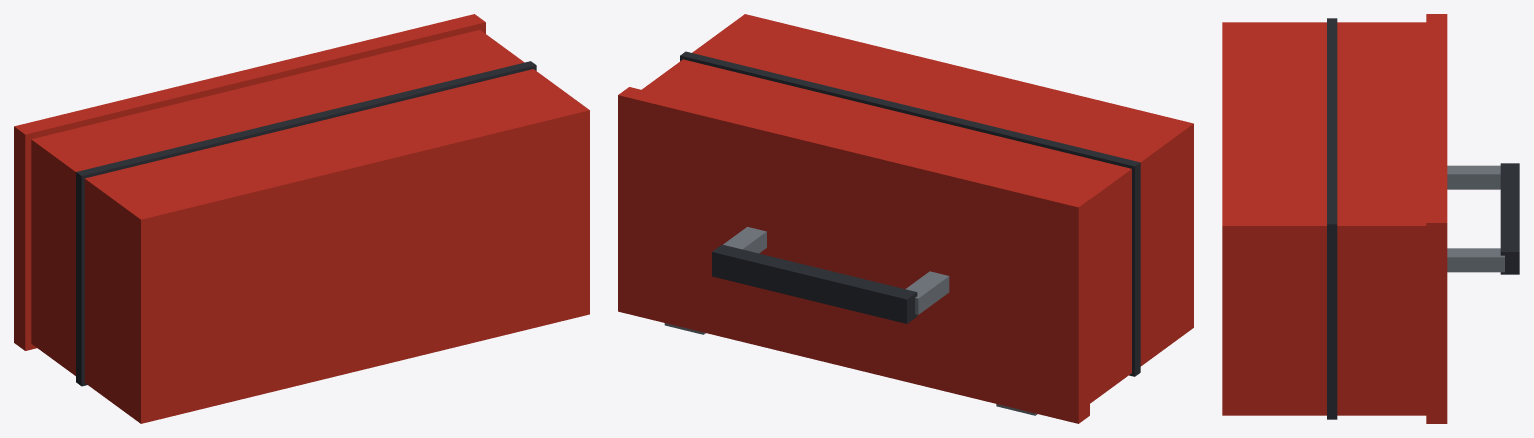
File: toolbox.glb
3 views of the same model, side by side, from view 1: azimuth 30°, elevation 25°; view 2: azimuth 150°, elevation 25°; view 3: azimuth 270°, elevation 25° (orthographic). The views are drawn at different scales.
Visible parts, largest first — view 1: toolbox_mesh; view 2: toolbox_mesh; view 3: toolbox_mesh.
Boxes of the visible parts, box(x1,y1,x2,y2) form: toolbox_mesh: box(14, 14, 589, 423); toolbox_mesh: box(618, 14, 1193, 423); toolbox_mesh: box(1222, 14, 1519, 423).
Bounding box in the file's own units: 0.472 × 0.216 × 0.284.
1 material, 1 textured.
